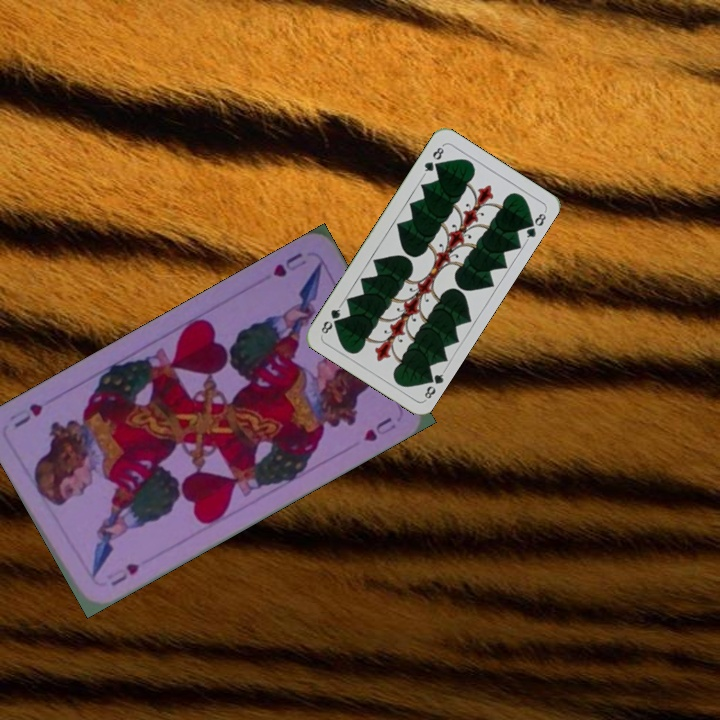G8: (420, 366, 448, 403), (420, 141, 447, 178)
HU: (268, 248, 309, 280), (106, 559, 143, 589)
